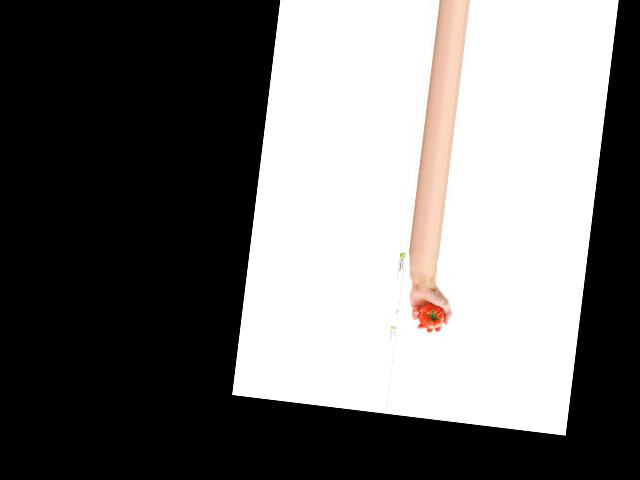tomato: (416, 302, 445, 330)
